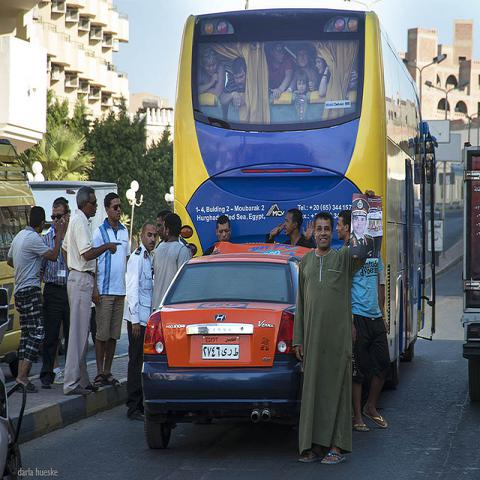bus: (173, 10, 440, 382)
car: (144, 254, 305, 444)
